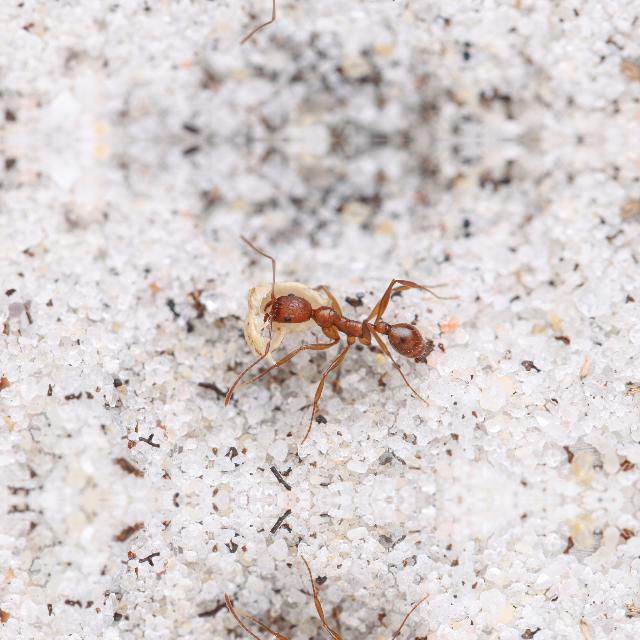Apheanogaster: (225, 269, 463, 383), (225, 616, 463, 640)
